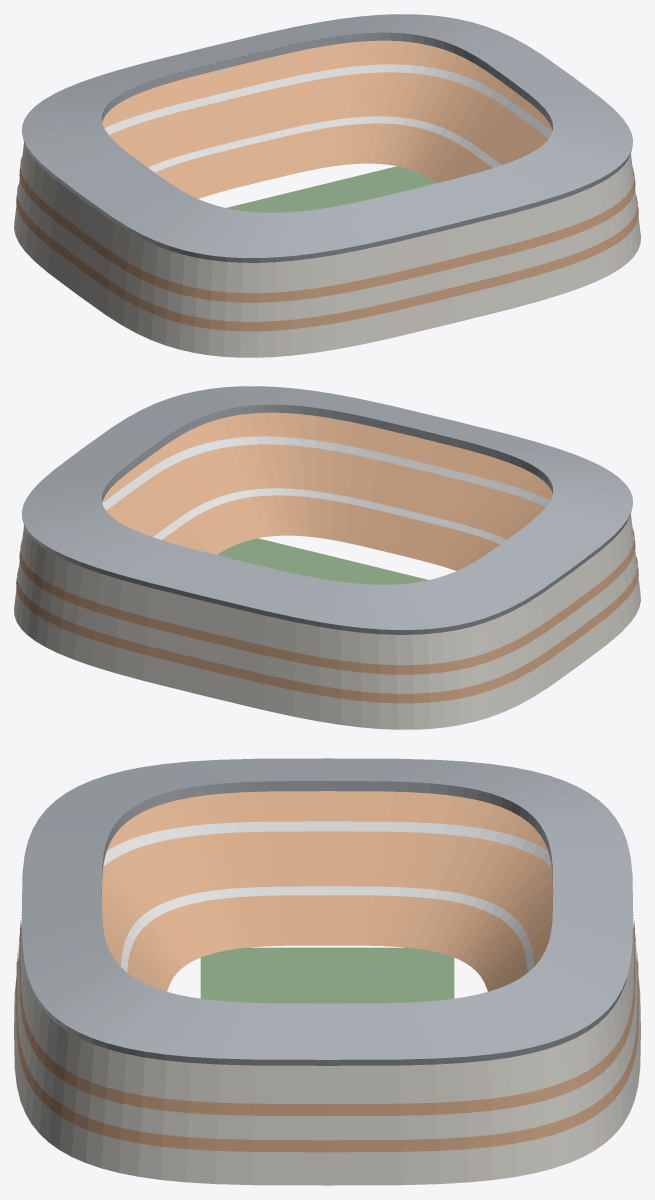
Rendered from mestalla.glb.
The picture shows the model from 3 angles, top to bottom: view 1: azimuth 30°, elevation 25°; view 2: azimuth 150°, elevation 25°; view 3: azimuth 270°, elevation 25°; orthographic projection. The views are drawn at different scales.
Bounding box in the file's own units: 196 × 41 × 168.
